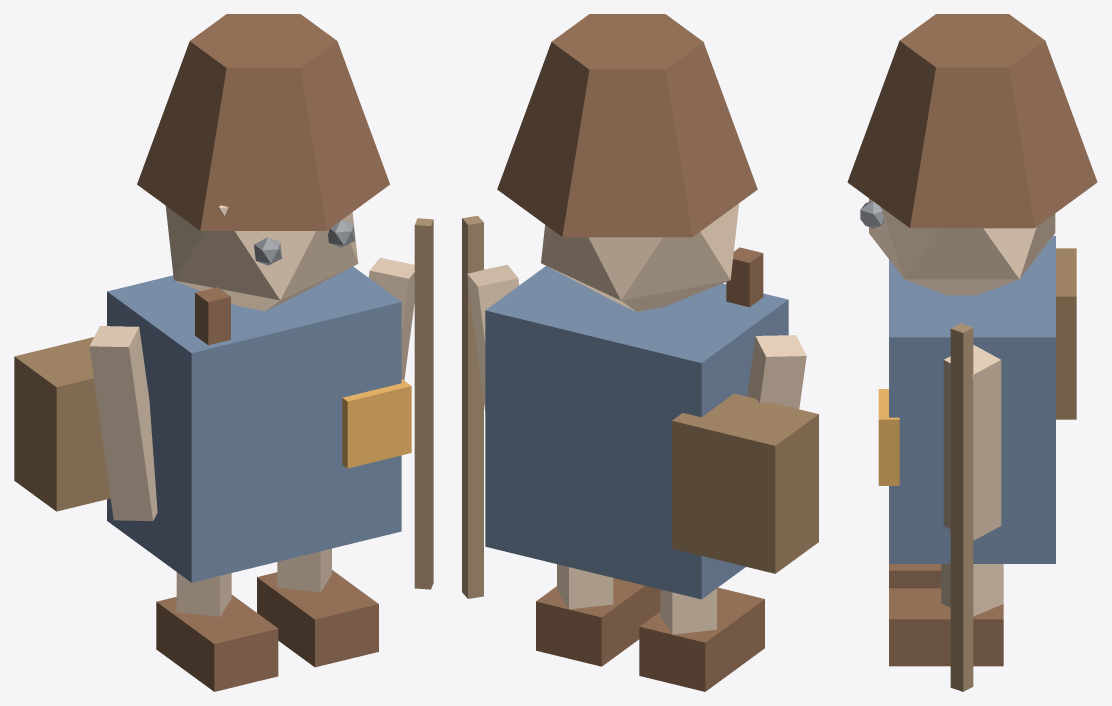
Rendered from npc_child_urchin.glb.
3 renders of one model, left to right at view 1: azimuth 30°, elevation 25°; view 2: azimuth 150°, elevation 25°; view 3: azimuth 270°, elevation 25°, orthographic. The views are drawn at different scales.
Parts seen in each view (by area): view 1: smock, cap.003, satchel, head.003, arm_0.003, shoe_0, shoe_1, stick, patch, arm_1.003, leg_0.002, leg_1.002 (+1 smaller); view 2: smock, cap.003, satchel, head.003, shoe_0, stick, shoe_1, arm_0.003, arm_1.003, leg_0.002, leg_1.002, strap; view 3: cap.003, smock, head.003, stick, arm_1.003, shoe_1, satchel, leg_1.002, patch, shoe_0, eye_1.001.
Boxes of the visible parts, left/top/right/bottom form: smock: left=107, top=266, right=401, bottom=582; cap.003: left=137, top=14, right=389, bottom=230; satchel: left=14, top=337, right=110, bottom=511; head.003: left=165, top=205, right=358, bottom=310; arm_0.003: left=89, top=326, right=157, bottom=521; shoe_0: left=156, top=594, right=278, bottom=691; shoe_1: left=257, top=570, right=378, bottom=667; stick: left=414, top=218, right=433, bottom=589; patch: left=342, top=379, right=411, bottom=468; arm_1.003: left=368, top=257, right=414, bottom=380; leg_0.002: left=176, top=572, right=231, bottom=616; leg_1.002: left=277, top=548, right=331, bottom=592; smock: left=485, top=266, right=788, bottom=599; cap.003: left=497, top=14, right=757, bottom=237; satchel: left=672, top=393, right=818, bottom=573; head.003: left=541, top=203, right=738, bottom=311; shoe_0: left=639, top=587, right=764, bottom=691; stick: left=462, top=215, right=483, bottom=598; shoe_1: left=536, top=578, right=660, bottom=666; arm_0.003: left=747, top=335, right=806, bottom=409; arm_1.003: left=467, top=265, right=519, bottom=411; leg_0.002: left=660, top=588, right=716, bottom=634; leg_1.002: left=557, top=564, right=613, bottom=609; strap: left=726, top=247, right=763, bottom=307; cap.003: left=847, top=14, right=1097, bottom=228; smock: left=889, top=236, right=1055, bottom=563; head.003: left=869, top=198, right=1055, bottom=295; stick: left=950, top=323, right=973, bottom=691; arm_1.003: left=943, top=345, right=1001, bottom=540; shoe_1: left=889, top=588, right=1003, bottom=666; satchel: left=1056, top=248, right=1076, bottom=419; leg_1.002: left=941, top=564, right=1003, bottom=616; patch: left=878, top=389, right=899, bottom=485; shoe_0: left=889, top=564, right=941, bottom=588; eye_1.001: left=860, top=201, right=883, bottom=228.
Size of the model in its own units: 0.7919 by 1.25 by 0.48.
